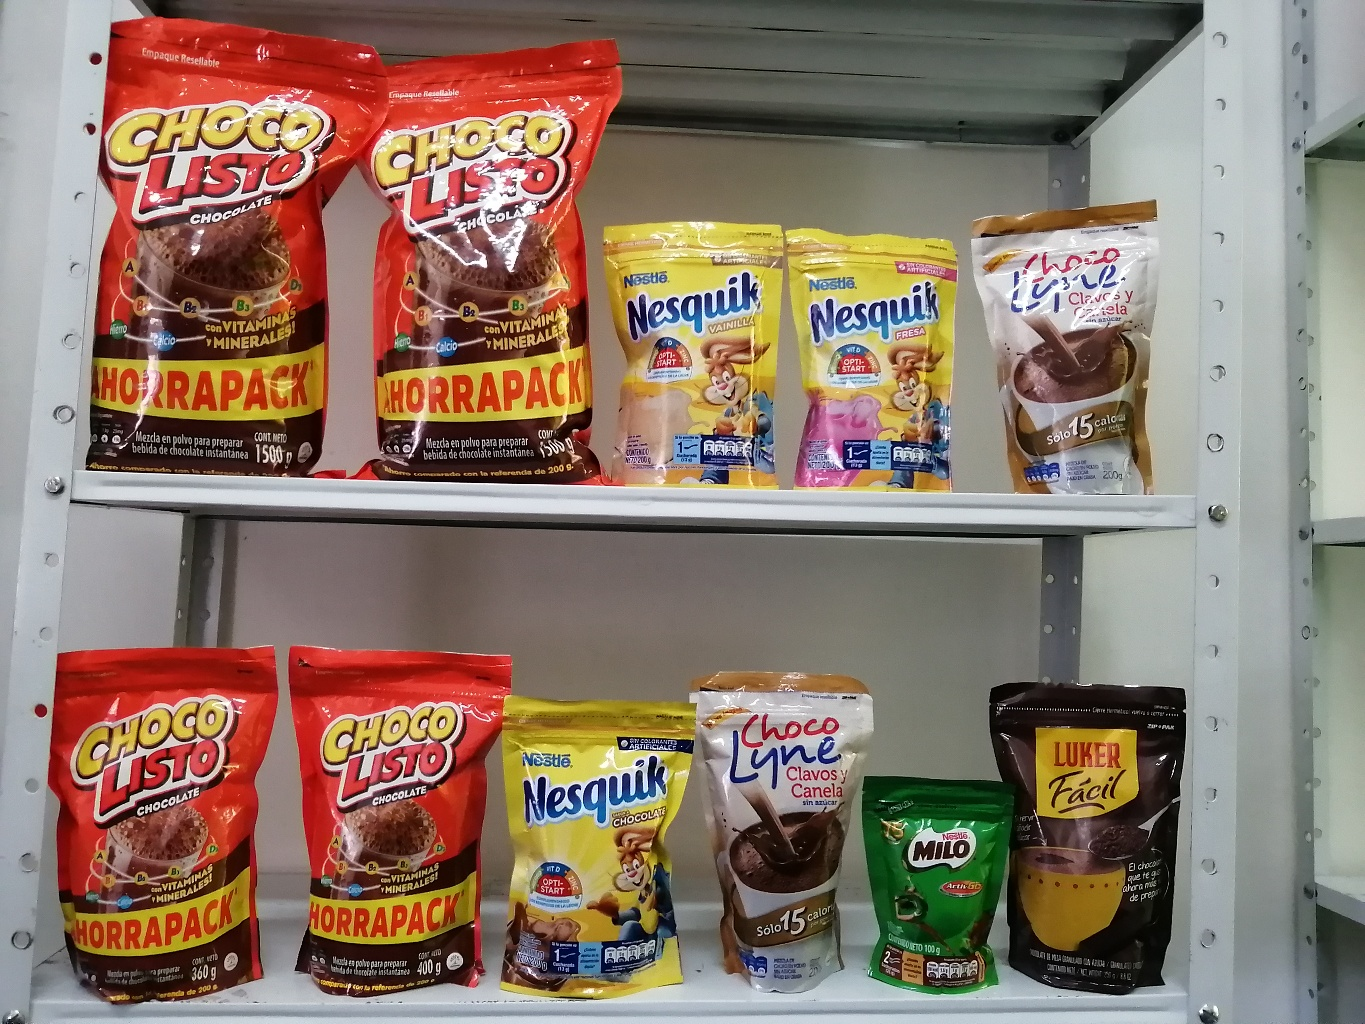COL0170103DYP1,500: (366, 40, 621, 486)
COL0170103DYP36000: (38, 640, 282, 999)
COL0170103DYP40000: (295, 640, 516, 995)
COL0170203DYP10000: (853, 766, 1019, 990)
COL0170303DYP20000: (488, 692, 706, 1010)
COL0170305DYP20000: (781, 214, 971, 501)
COL0170306DYP20000: (592, 208, 790, 490)
